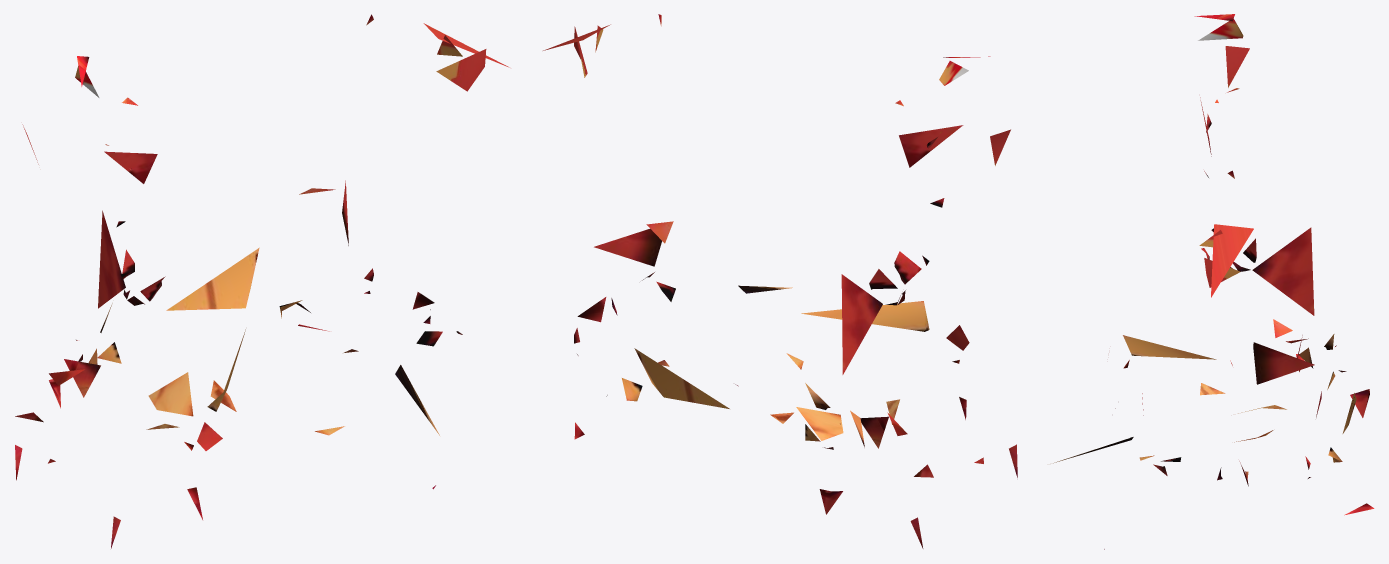
Rendered from reef_crab_mesh.glb.
3 renders of one model, left to right at view 1: azimuth 30°, elevation 25°; view 2: azimuth 150°, elevation 25°; view 3: azimuth 270°, elevation 25°, orthographic. The views are drawn at different scales.
Parts seen in each view (by area): view 1: Mesh_0; view 2: Mesh_0; view 3: Mesh_0.
Part boxes in pixels (box(x1,y1,x2,y2)): Mesh_0: box(15, 14, 509, 548); Mesh_0: box(543, 14, 1017, 548); Mesh_0: box(1053, 14, 1374, 549).
Bounding box in the file's own units: 1.99 × 1.81 × 1.3.
1 material, 1 textured.
